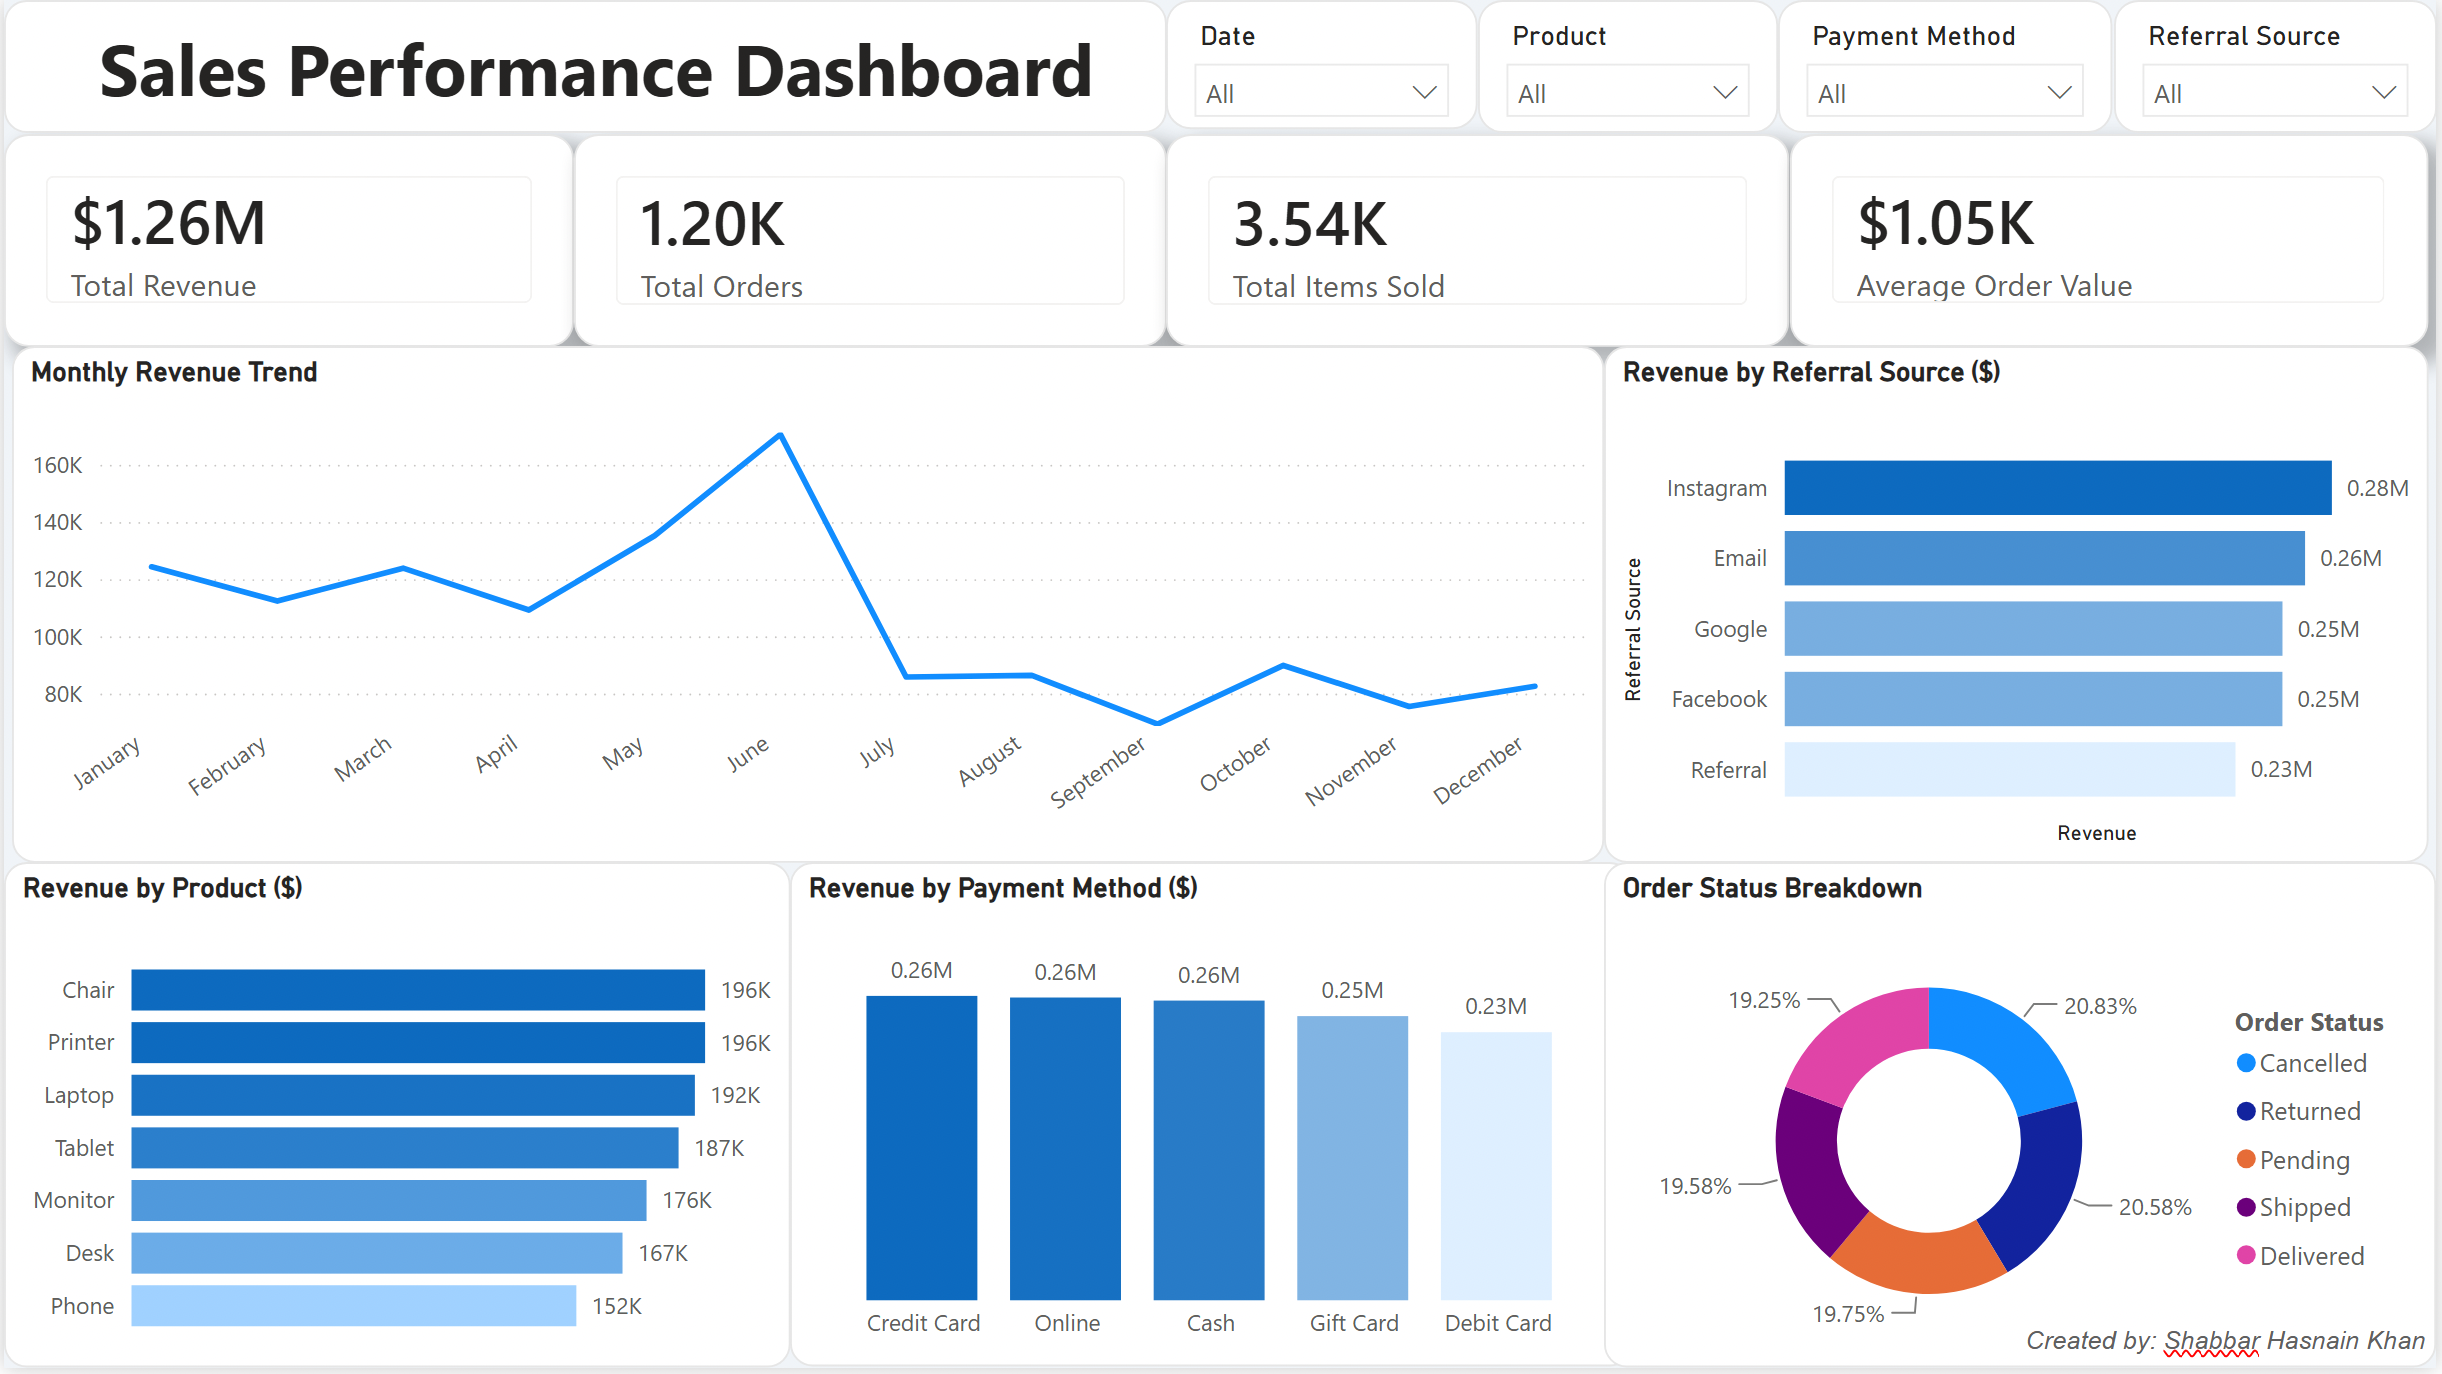

The dashboard page shown, as its layout file describes it:
{"tool":"powerbi","page":{"name":"Sales Dashboard","canvas":[1280,720],"ordinal":0},"visuals":[{"type":"cardVisual","fields":{"Data":["Sum(Sheet1.Total Price)"]},"box":[0,70.1,300,111.9],"z":0},{"type":"cardVisual","fields":{"Data":["CountNonNull(Sheet1.Order ID)"]},"box":[300,70,312,112],"z":1000},{"type":"cardVisual","fields":{"Data":["Sum(Sheet1.Quantity)"]},"box":[612,70,328,112],"z":2000},{"type":"cardVisual","fields":{"Data":["Avg(Sheet1.Total Price)"]},"box":[940.3,70.1,335.8,111.9],"z":3000},{"type":"lineChart","title":"Monthly Revenue Trend","fields":{"Category":["Sheet1.Date.Variation.Date Hierarchy.Month"],"Y":["Sum(Sheet1.Total Price)"]},"box":[4,182,838,272],"z":4000},{"type":"clusteredBarChart","title":"Revenue by Referral Source ($)","fields":{"Category":["Sheet1.Referral Source"],"Y":["Sum(Sheet1.Total Price)"]},"box":[842,182,434,272],"z":5000},{"type":"clusteredColumnChart","title":"Revenue by Payment Method ($)","fields":{"Category":["Sheet1.Payment Method"],"Y":["Sum(Sheet1.Total Price)"]},"box":[413.4,453.7,443.3,265.7],"z":6000},{"type":"donutChart","title":"Order Status Breakdown","fields":{"Category":["Sheet1.Order Status"],"Y":["CountNonNull(Sheet1.Order ID)"]},"box":[842,454,438,266],"z":7000},{"type":"textbox","box":[0,0,612,70],"z":8000},{"type":"slicer","fields":{"Values":["Sheet1.Date.Variation.Date Hierarchy.Month"]},"box":[612,0,164,68],"z":9000},{"type":"slicer","fields":{"Values":["Sheet1.Product"]},"box":[776,0,158,70],"z":10000},{"type":"slicer","fields":{"Values":["Sheet1.Payment Method"]},"box":[934,0,176,70],"z":11000},{"type":"slicer","fields":{"Values":["Sheet1.Referral Source"]},"box":[1110,0,170,70],"z":12000},{"type":"clusteredBarChart","title":"Revenue by Product ($)","fields":{"Category":["Sheet1.Product"],"Y":["Sum(Sheet1.Total Price)"]},"box":[0,454,414,266],"z":13000},{"type":"textbox","box":[1059,690.2,220.9,29.8],"z":13001}]}

Visuals, with their boxes in screenshot pixels (x1, y1, x2, y2), scaled from the page's 1280x720 canvas onto the 2442x1374 screenshot:
cardVisual - Sum(Sheet1.Total Price): box=[0, 134, 572, 347]
cardVisual - CountNonNull(Sheet1.Order ID): box=[572, 134, 1168, 347]
cardVisual - Sum(Sheet1.Quantity): box=[1168, 134, 1793, 347]
cardVisual - Avg(Sheet1.Total Price): box=[1794, 134, 2435, 347]
"Monthly Revenue Trend" lineChart: box=[8, 347, 1606, 866]
"Revenue by Referral Source ($)" clusteredBarChart: box=[1606, 347, 2434, 866]
"Revenue by Payment Method ($)" clusteredColumnChart: box=[789, 866, 1634, 1373]
"Order Status Breakdown" donutChart: box=[1606, 866, 2441, 1373]
textbox: box=[0, 0, 1168, 134]
slicer - Sheet1.Date.Variation.Date Hierarchy.Month: box=[1168, 0, 1480, 130]
slicer - Sheet1.Product: box=[1480, 0, 1782, 134]
slicer - Sheet1.Payment Method: box=[1782, 0, 2118, 134]
slicer - Sheet1.Referral Source: box=[2118, 0, 2441, 134]
"Revenue by Product ($)" clusteredBarChart: box=[0, 866, 790, 1373]
textbox: box=[2020, 1317, 2441, 1373]
